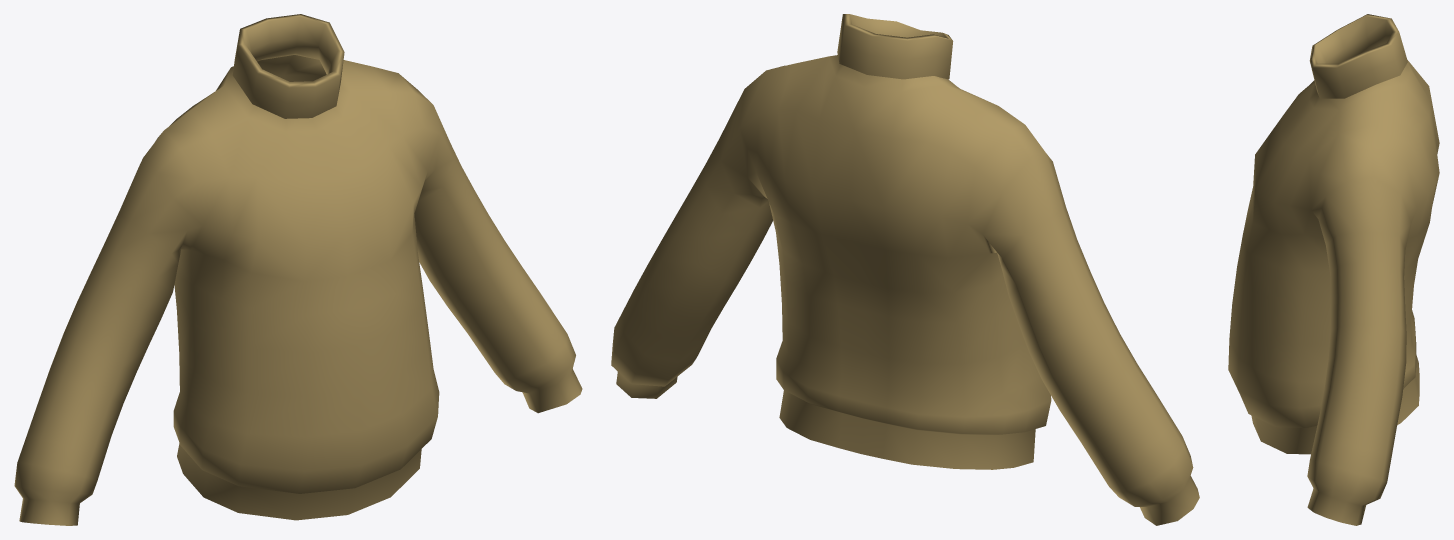
Rendered from turtle_neck.fbx.
3 renders of one model, left to right at view 1: azimuth 30°, elevation 25°; view 2: azimuth 150°, elevation 25°; view 3: azimuth 270°, elevation 25°, orthographic. The views are drawn at different scales.
Visible parts, largest first — view 1: TurtleneckSweater; view 2: TurtleneckSweater; view 3: TurtleneckSweater.
Part boxes in pixels (bbox=[...]): TurtleneckSweater: bbox=[14, 14, 582, 525]; TurtleneckSweater: bbox=[611, 14, 1199, 525]; TurtleneckSweater: bbox=[1228, 14, 1439, 525].
Size of the model in its own units: 93.16 by 70.06 by 34.26.
